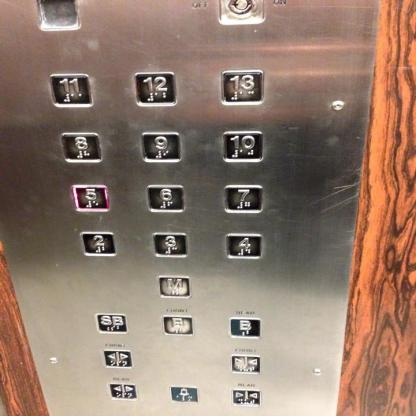10: (220, 129, 264, 162)
11: (48, 73, 94, 107)
12: (133, 72, 176, 106)
13: (220, 69, 264, 104)
2: (78, 232, 118, 256)
3: (152, 233, 186, 258)
4: (224, 232, 262, 259)
5: (70, 184, 110, 211)
6: (146, 183, 186, 212)
7: (223, 183, 264, 213)
8: (61, 131, 102, 161)
9: (139, 130, 183, 161)
B: (228, 317, 262, 339), (162, 314, 193, 336)
M: (156, 275, 192, 298)
SB: (94, 313, 128, 334)
alarm: (168, 384, 198, 402)
close: (229, 354, 262, 374), (231, 388, 262, 406)
empty: (36, 0, 81, 32)
keyhole: (215, 0, 265, 26)
open: (106, 382, 139, 402), (100, 349, 134, 368)
